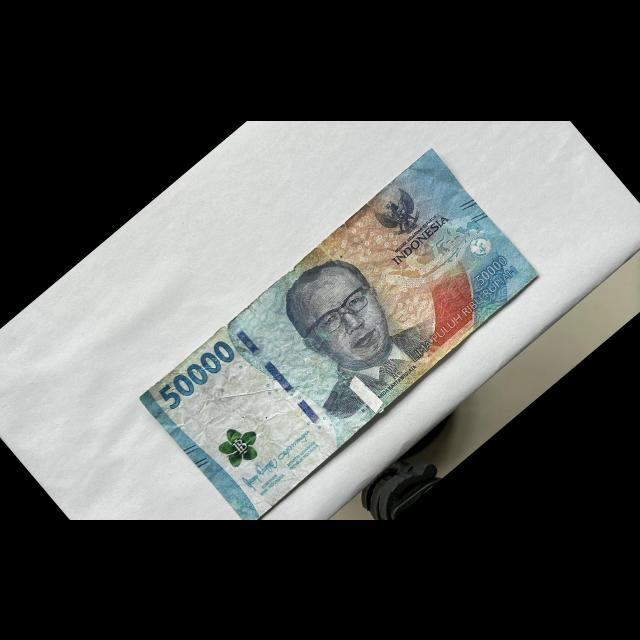Palsu-50k: (132, 142, 545, 530)
Tinta-Palsu-50k: (212, 416, 268, 472)
